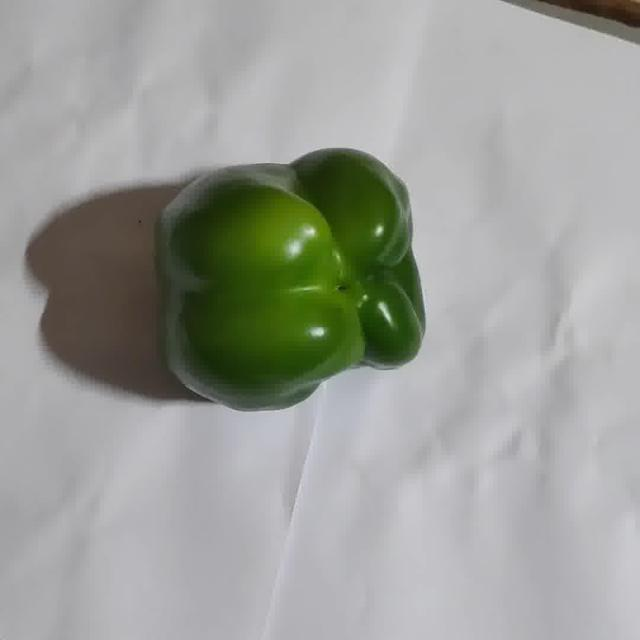Bell Pepper: (158, 148, 425, 411)
